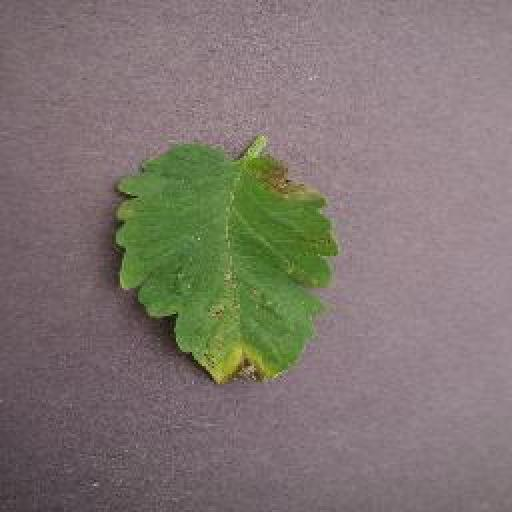Late Blight: (111, 142, 340, 386)
